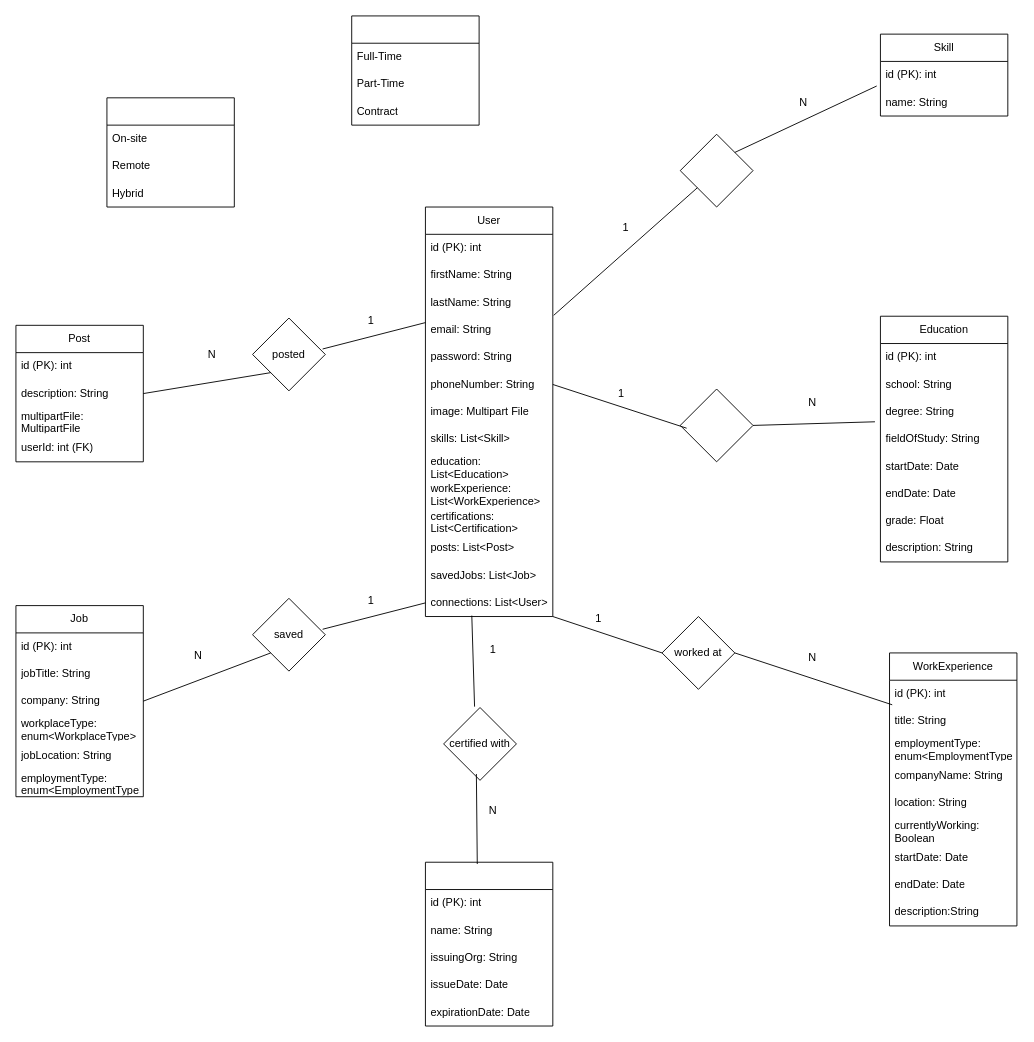
Image size: 1034x1042. Some labels were removed from this diagram. Each missing label, with the box of its shape:
<<enumeration>> EmploymentType: (351, 15, 479, 125)
<<enumeration>> WorkplaceType: (106, 97, 234, 207)
Certification: (425, 861, 553, 1026)
has: (679, 133, 753, 207)
studied at: (679, 388, 753, 462)
